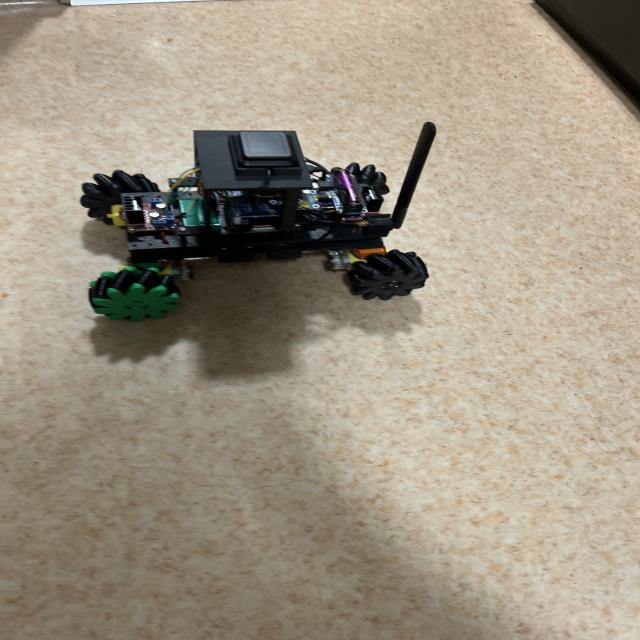robot: (81, 123, 435, 321)
